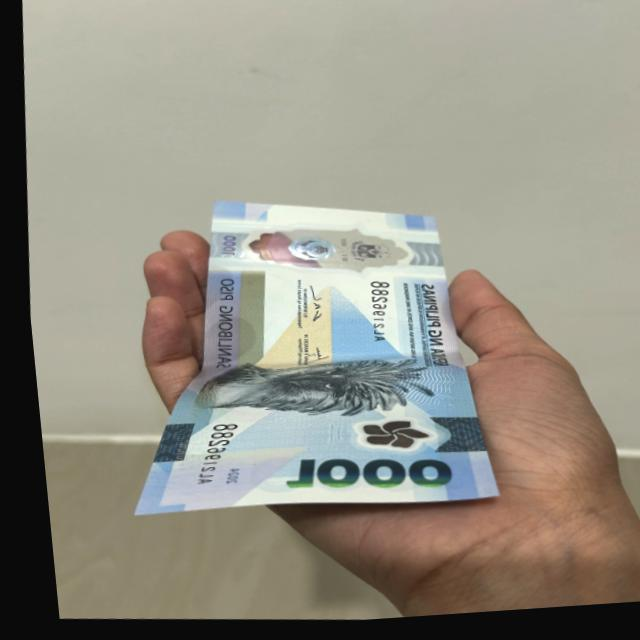clear_window: (233, 217, 405, 289)
eagle: (194, 337, 435, 429)
sampaguita: (345, 420, 420, 461)
serial_number: (169, 415, 234, 492)
